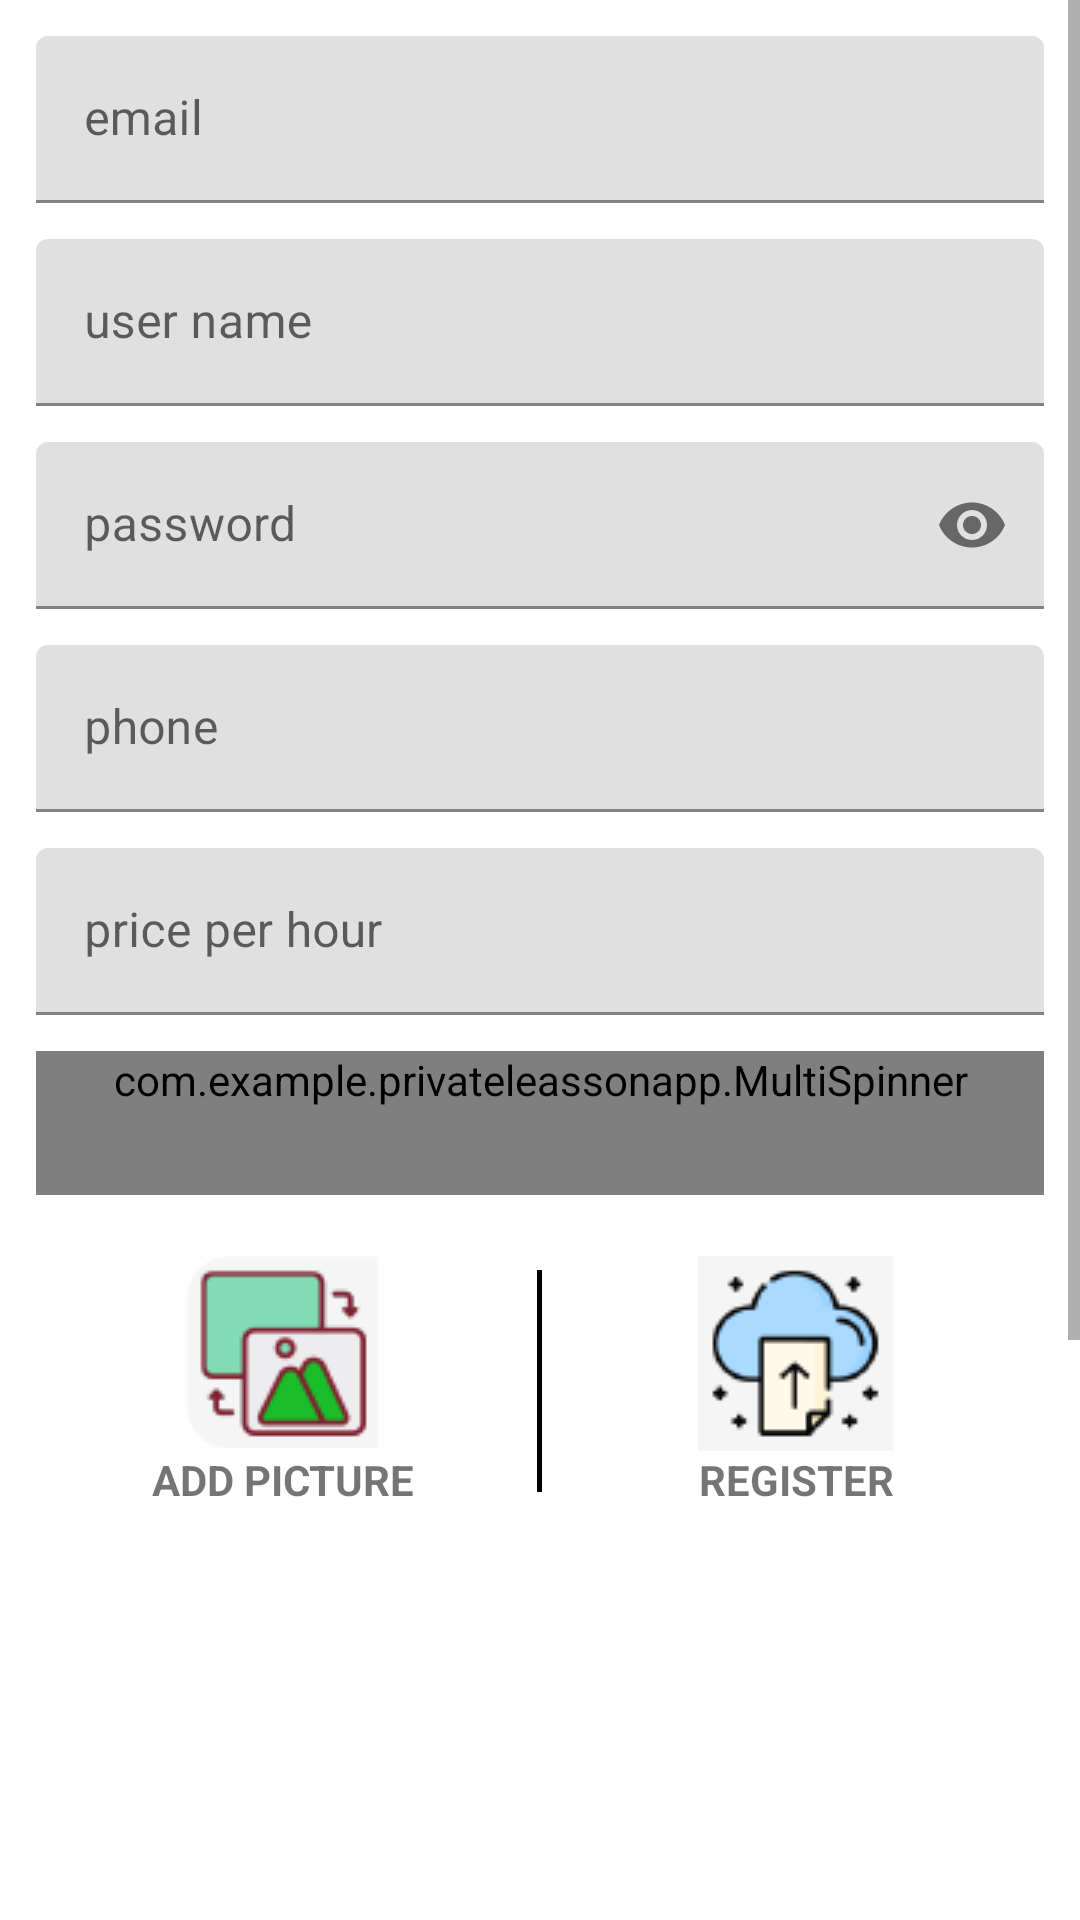

Named icons in this screenshot (1080*1920) and their centers, (x,y):
upload: (795,1353)
